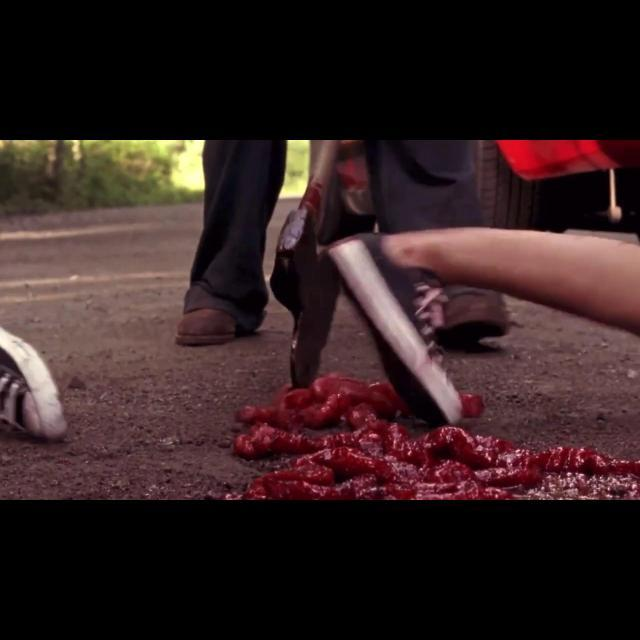blood: (224, 374, 640, 500), (461, 394, 486, 417)
